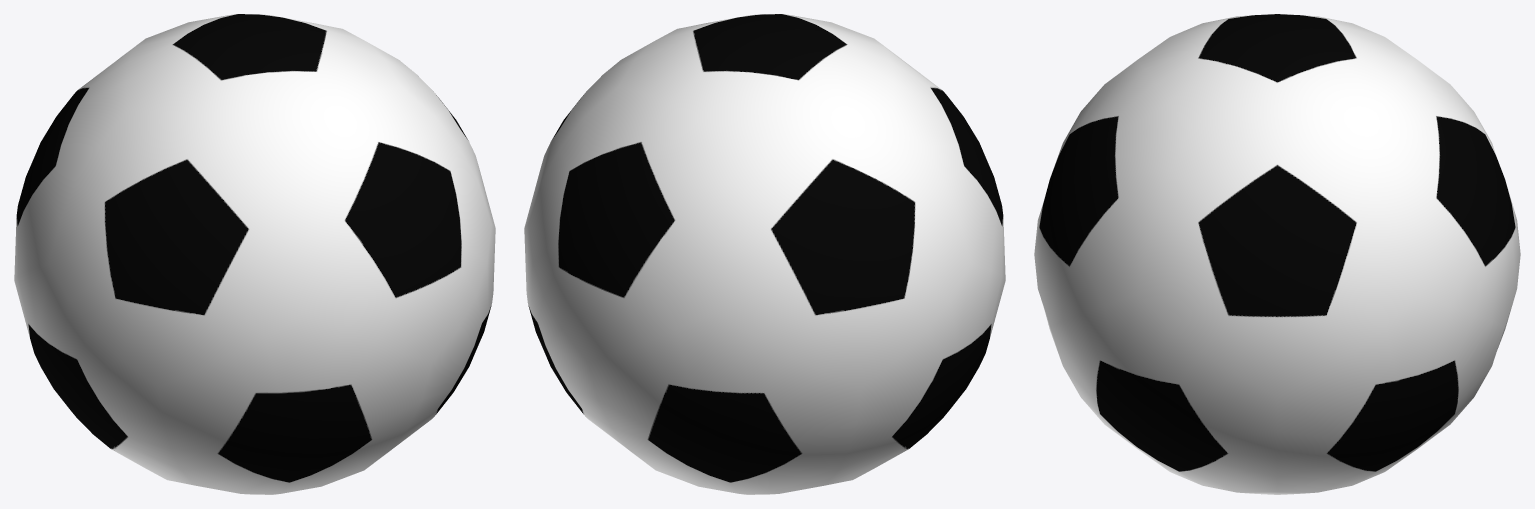
File: soccer.fbx
3 views of the same model, side by side, from view 1: azimuth 30°, elevation 25°; view 2: azimuth 150°, elevation 25°; view 3: azimuth 270°, elevation 25° (orthographic).
Visible parts, largest first — view 1: Soccer; view 2: Soccer; view 3: Soccer.
Boxes of the visible parts, box(x1,y1,x2,y2) form: Soccer: box(14, 14, 495, 494); Soccer: box(524, 14, 1005, 494); Soccer: box(1034, 14, 1520, 494).
Size of the model in its own units: 23.63 by 24 by 24.
Materials: 1 (1 with a texture image).
